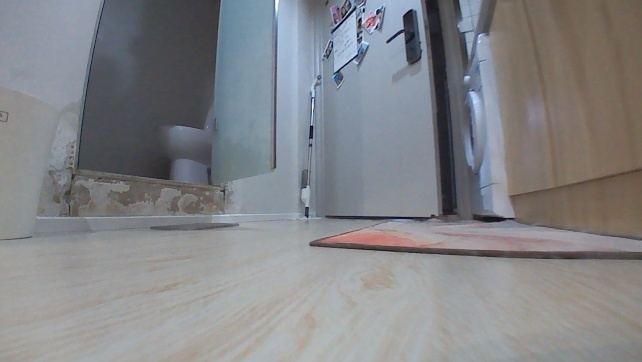blanket: (302, 217, 641, 260)
door_anno: (305, 0, 461, 215)
toilet: (153, 99, 216, 185)
washing_machine: (457, 32, 514, 221)
